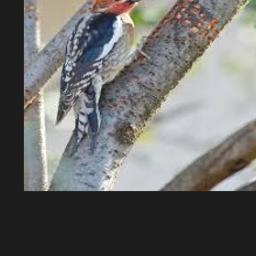Woodpecker: (56, 0, 158, 156)
